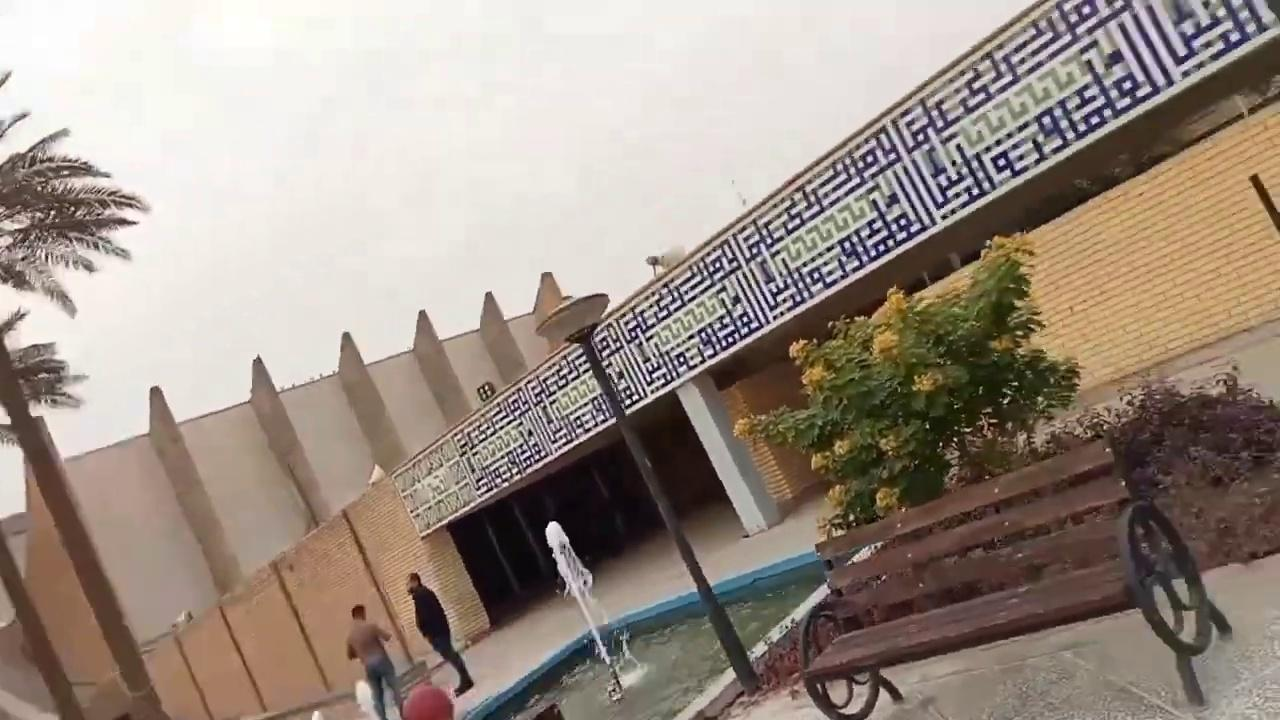fountain: (461, 547, 830, 718), (542, 518, 633, 702)
person: (406, 571, 474, 697), (345, 603, 404, 719)
tree: (728, 230, 1083, 557), (0, 67, 169, 718), (0, 68, 151, 318), (1103, 361, 1279, 575)
